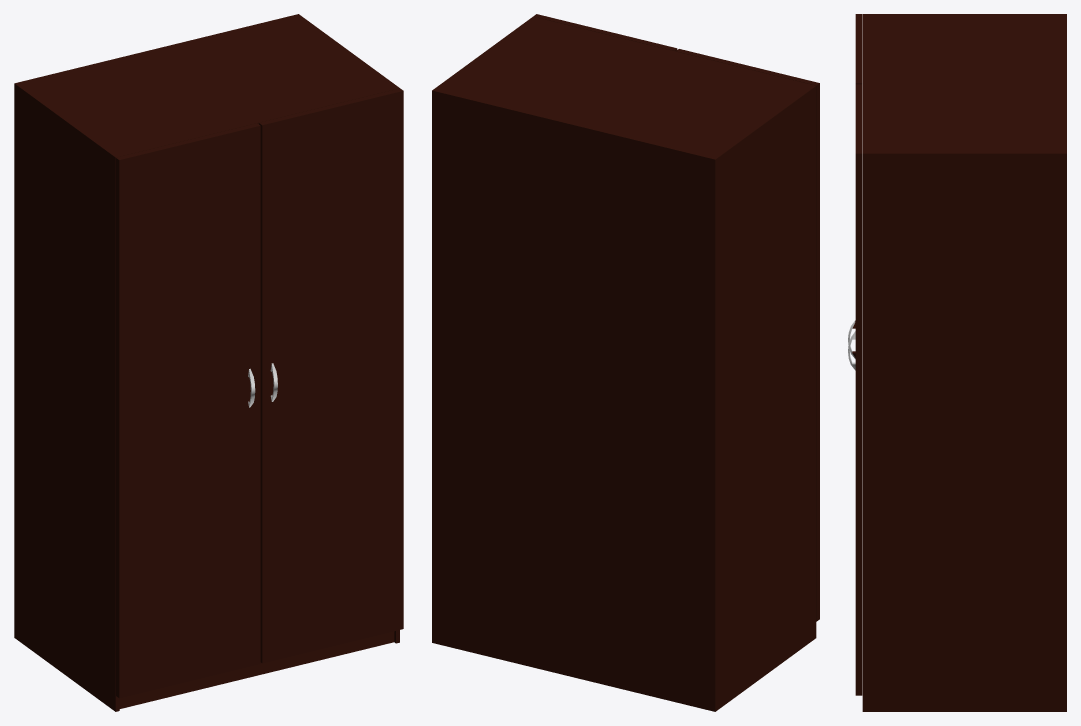
File: animated-wardobe-closet-office-low-poly_new.fbx
3 views of the same model, side by side, from view 1: azimuth 30°, elevation 25°; view 2: azimuth 150°, elevation 25°; view 3: azimuth 270°, elevation 25° (orthographic).
Visible parts, largest first — view 1: closet, L_door, R_door; view 2: closet, L_door; view 3: closet, R_door, L_door.
Boxes of the visible parts, left/top/right/bottom form: closet: left=14, top=14, right=399, bottom=711; L_door: left=116, top=123, right=260, bottom=698; R_door: left=259, top=88, right=403, bottom=663; closet: left=432, top=16, right=816, bottom=711; L_door: left=676, top=49, right=819, bottom=621; closet: left=862, top=14, right=1066, bottom=711; R_door: left=848, top=84, right=862, bottom=695; L_door: left=848, top=14, right=862, bottom=358.
Bounding box in the file's own units: 2.54 × 4.73 × 1.68.
